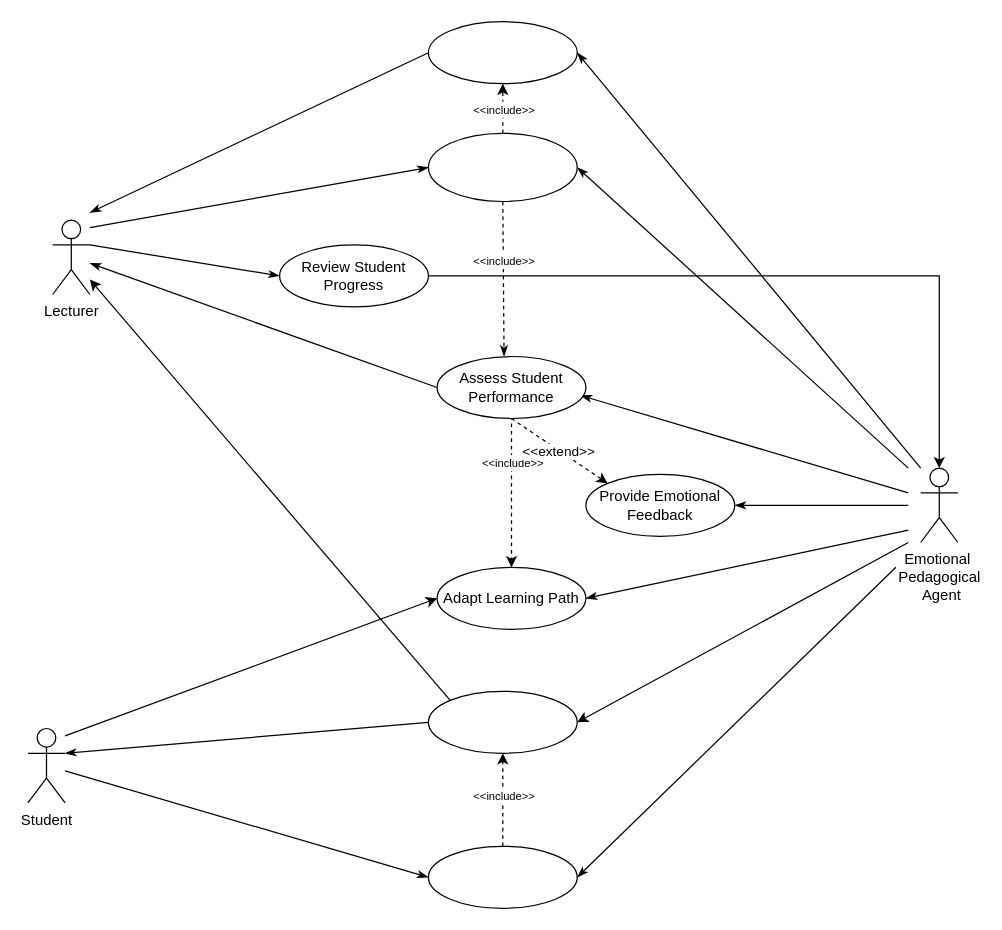
The diagram is 1002 pixels wide and 930 high, and some of its shapes have lost their labels. Each missing label, with the box of its shape:
Encourage Student: (427, 845, 577, 908)
Receive Learning Materials: (427, 20, 577, 84)
Receive Student Emotional Feedback: (427, 690, 577, 753)
Update Learning Materials: (427, 132, 577, 202)
